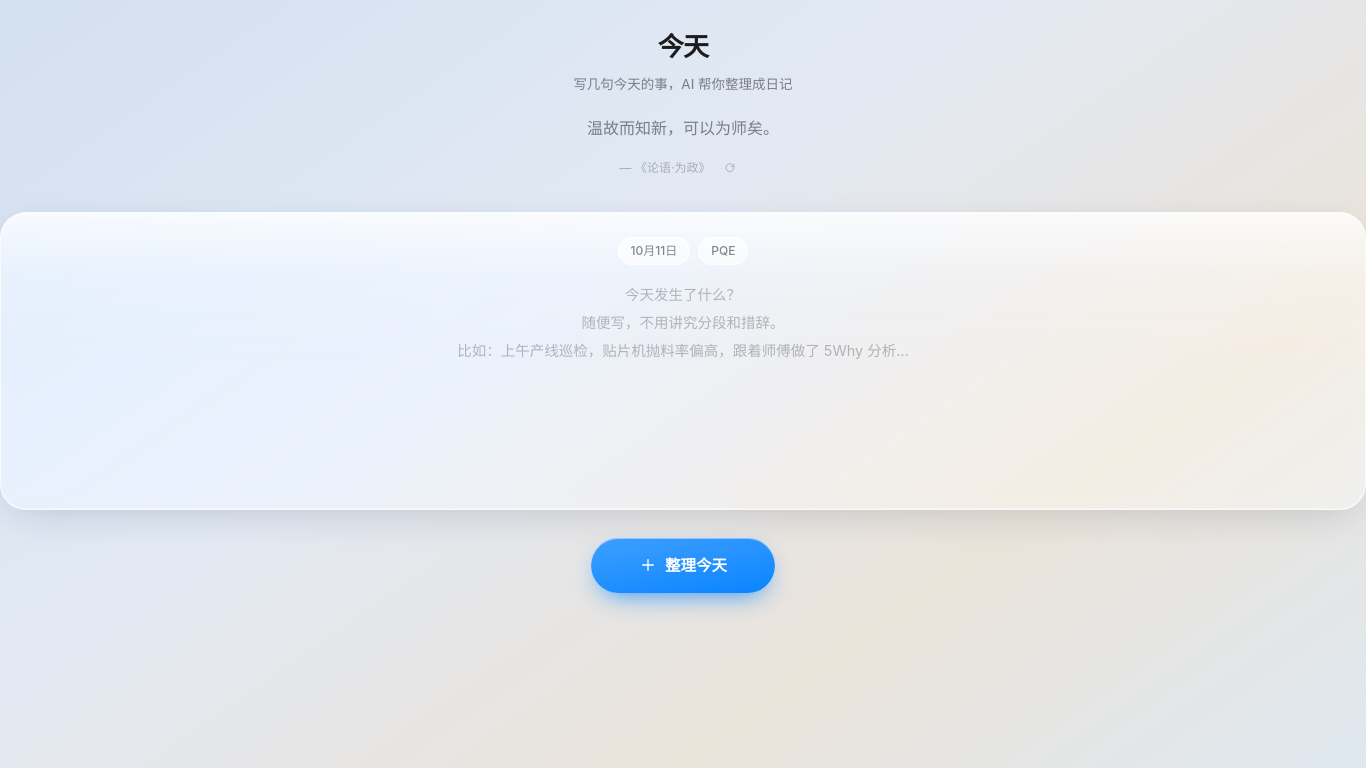
Test: DiaryCreatePage 岗位选择器 › 按 Esc 关闭下拉且不改动岗位
Check: the text box with placeholder "今天发生了什么？ 随便写，不用讲究分段和措辞。 比如：上午产线巡检，贴片机抛料率偏高，跟着师傅做了 5Why 分析…" is shown, box left=29, top=281, right=1337, bottom=479
Click the button titled "点击选择岗位": x=723, y=251 left=698, top=237, right=748, bottom=265
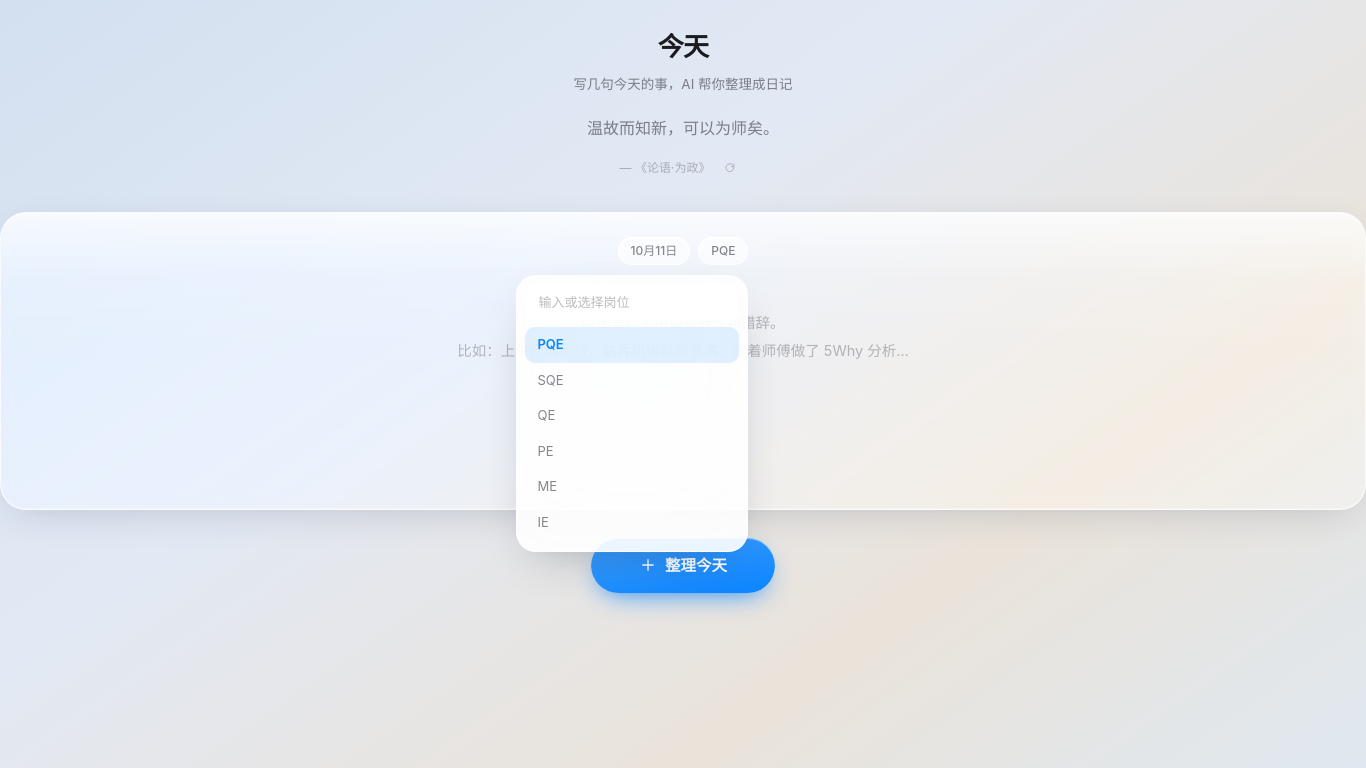
Check: the field with placeholder "输入或选择岗位" is shown, box left=525, top=284, right=739, bottom=321
Press Escape
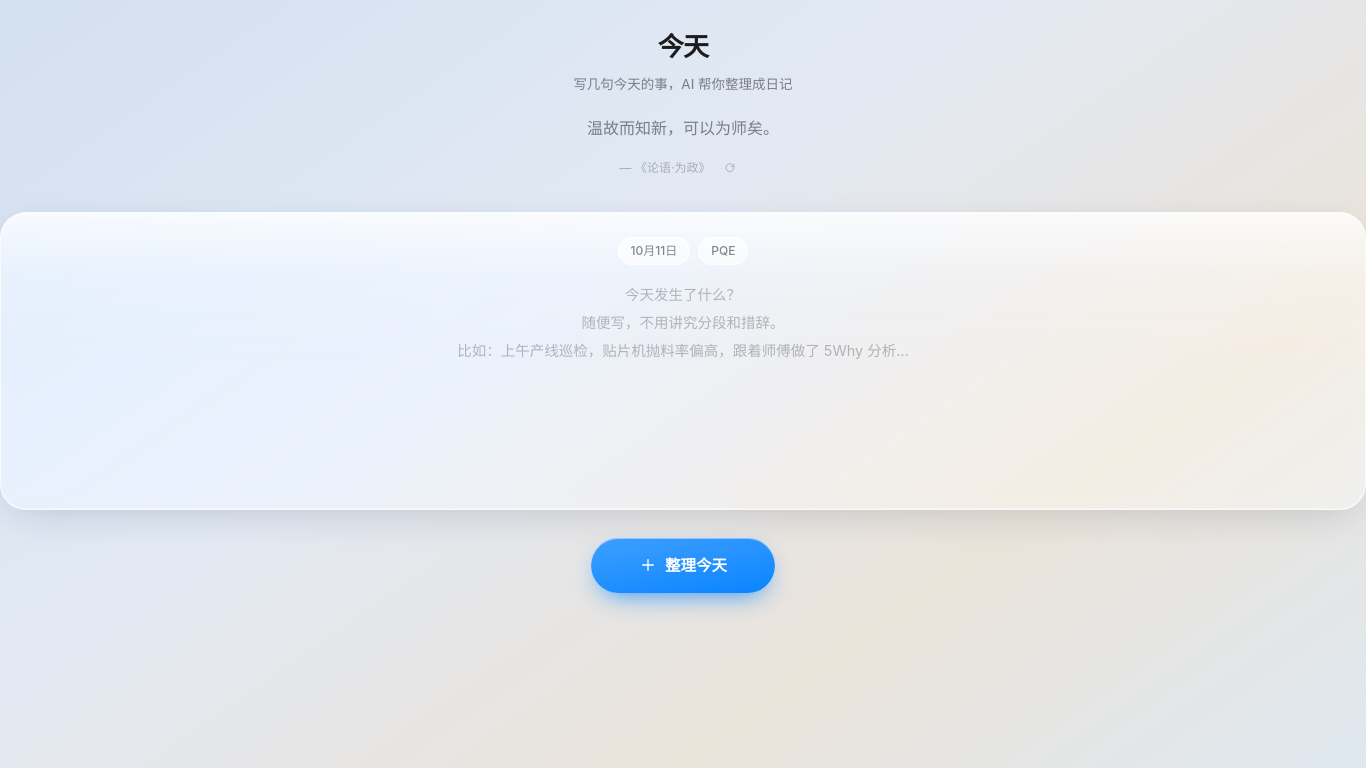
Check: the button titled "点击选择岗位" reads "PQE", box left=698, top=237, right=748, bottom=265
Check: the field with placeholder "输入或选择岗位" is gone
